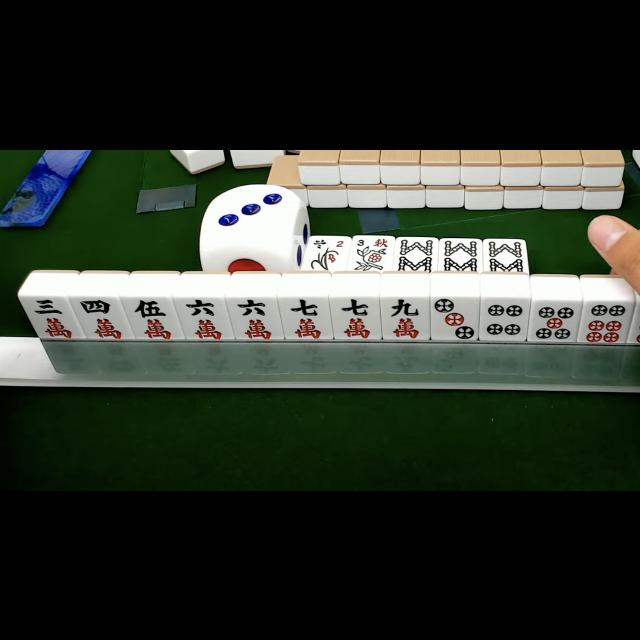b8: (393, 236, 437, 270), (483, 239, 527, 273), (440, 238, 482, 272)
c3: (26, 294, 76, 340)
c4: (76, 296, 128, 340)
c5: (128, 296, 178, 340)
c6: (180, 296, 228, 340), (230, 296, 278, 338)
c7: (282, 296, 330, 340), (332, 296, 380, 340)
c9: (382, 296, 430, 340)
d3: (430, 296, 478, 340)
d4: (481, 296, 529, 340)
d5: (530, 298, 578, 342)
d6: (580, 300, 630, 344)
f2: (308, 235, 347, 249)
s3: (352, 235, 392, 249)
